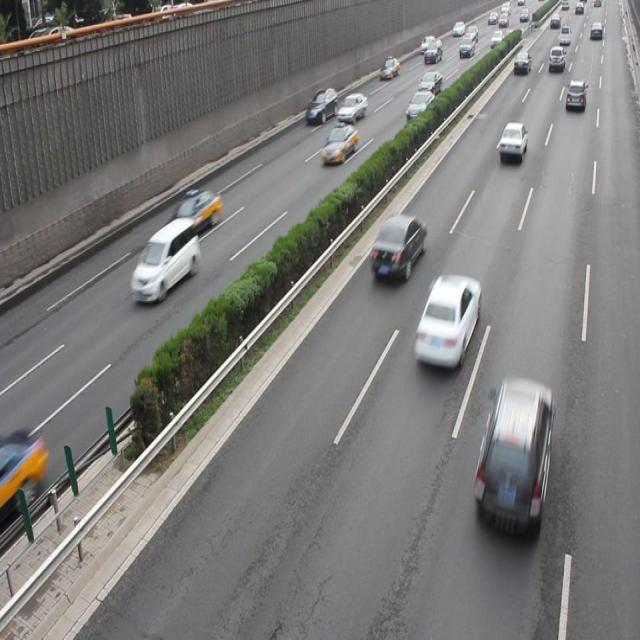car: (471, 376, 553, 540), (412, 274, 480, 371), (1, 428, 46, 521), (369, 213, 425, 282), (165, 190, 221, 240), (321, 122, 358, 166), (305, 87, 337, 124), (498, 121, 526, 161), (336, 92, 367, 124), (405, 90, 434, 122)
truck: (130, 216, 199, 303)
